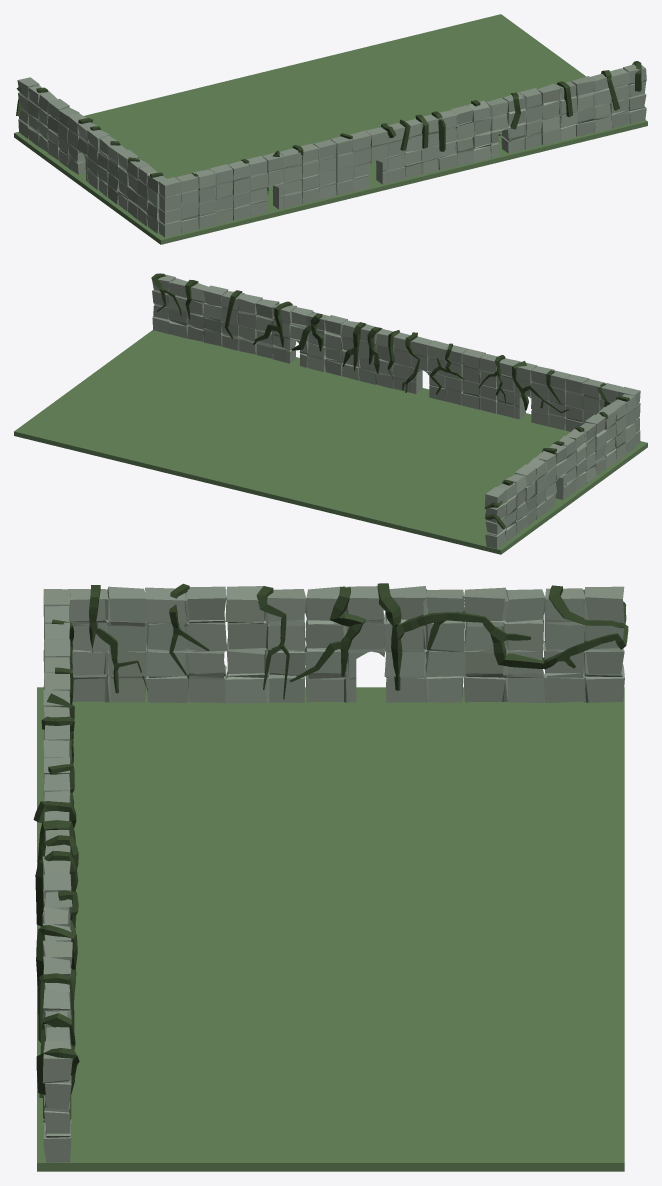
File: Forest2.fbx
The picture shows the model from 3 angles, top to bottom: view 1: azimuth 30°, elevation 25°; view 2: azimuth 150°, elevation 25°; view 3: azimuth 270°, elevation 25°; orthographic projection. The views are drawn at different scales.
Visible parts, largest first — view 1: Ground.001, Wall.004, Wall.005, Wall.003, Vine.002; view 2: Ground.001, Wall.005, Wall.004, Wall.003, Vine.002; view 3: Ground.001, Wall.003, Vine.002, Wall.005, Wall.004.
Boxes of the visible parts, left/top/right/bottom form: Ground.001: left=14, top=14, right=647, bottom=244; Wall.004: left=158, top=123, right=405, bottom=237; Wall.005: left=404, top=64, right=646, bottom=178; Wall.003: left=17, top=77, right=166, bottom=233; Vine.002: left=16, top=61, right=641, bottom=194; Ground.001: left=14, top=330, right=647, bottom=554; Wall.005: left=152, top=273, right=394, bottom=388; Wall.004: left=393, top=332, right=640, bottom=445; Wall.003: left=485, top=394, right=636, bottom=548; Vine.002: left=151, top=273, right=629, bottom=529; Ground.001: left=37, top=687, right=624, bottom=1171; Wall.003: left=68, top=586, right=624, bottom=703; Vine.002: left=33, top=583, right=628, bottom=1119; Wall.005: left=42, top=829, right=72, bottom=1162; Wall.004: left=43, top=589, right=70, bottom=821.
Bounding box in the file's own units: 5116 × 605 × 2697.
